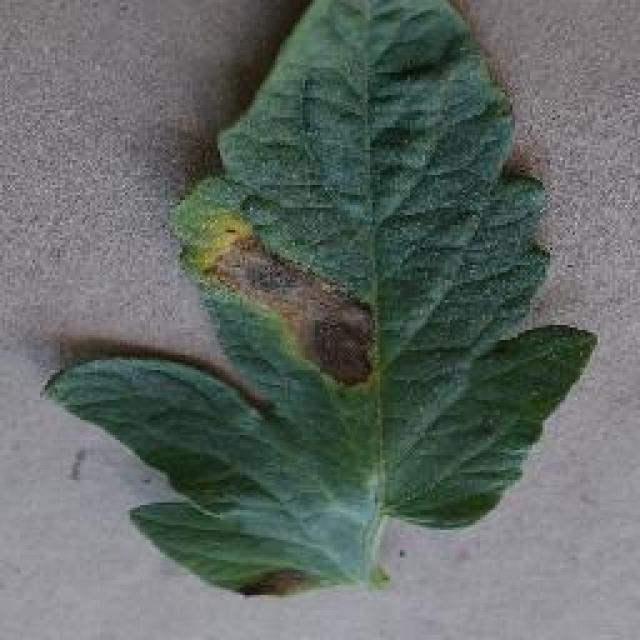Tomato___Early_blight: (33, 0, 596, 596)
